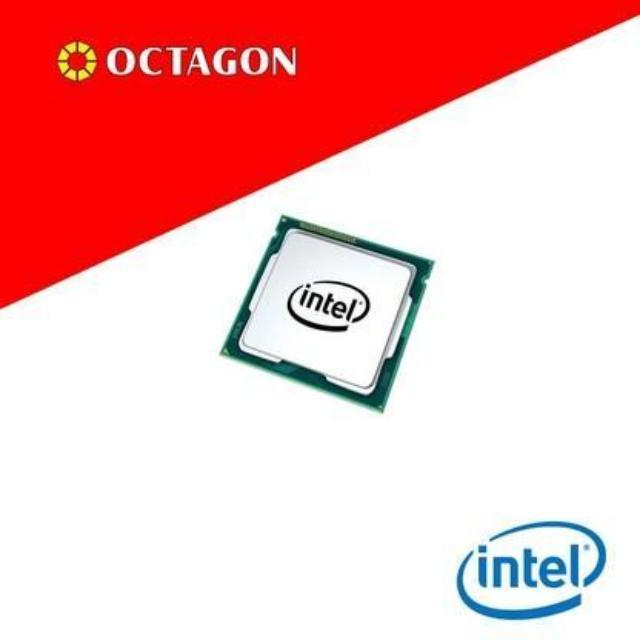CPU: (236, 216, 419, 410)
